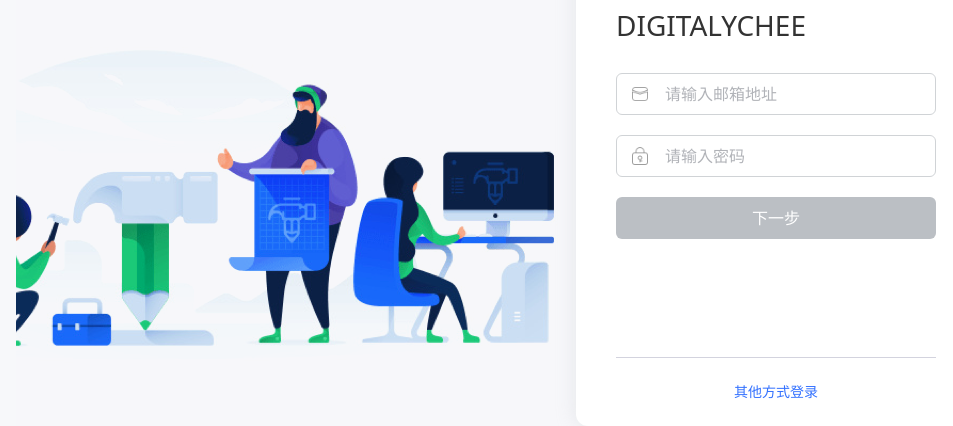
Scenario: login with correct credentials
The width and height of the screenshot is (953, 426).
In the field named "email": (776,94) [616, 73, 936, 115], type "test@gmail.com"
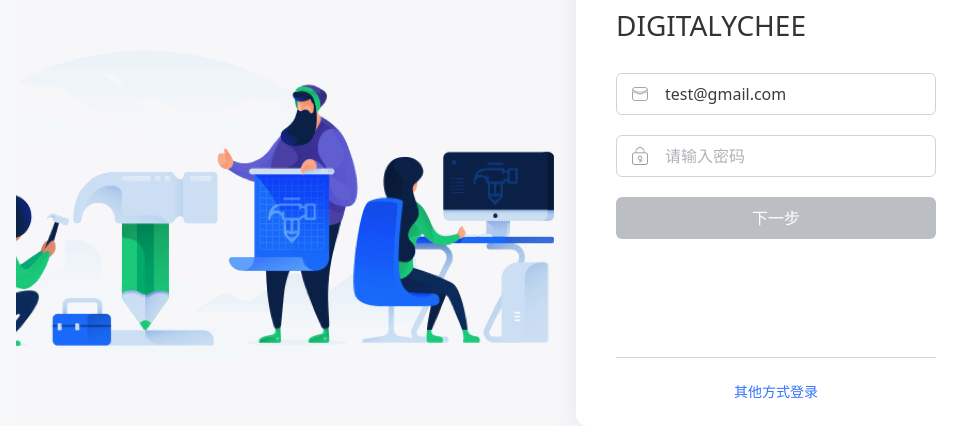
In the password field named "password": (776,156) [616, 135, 936, 177], type "password"
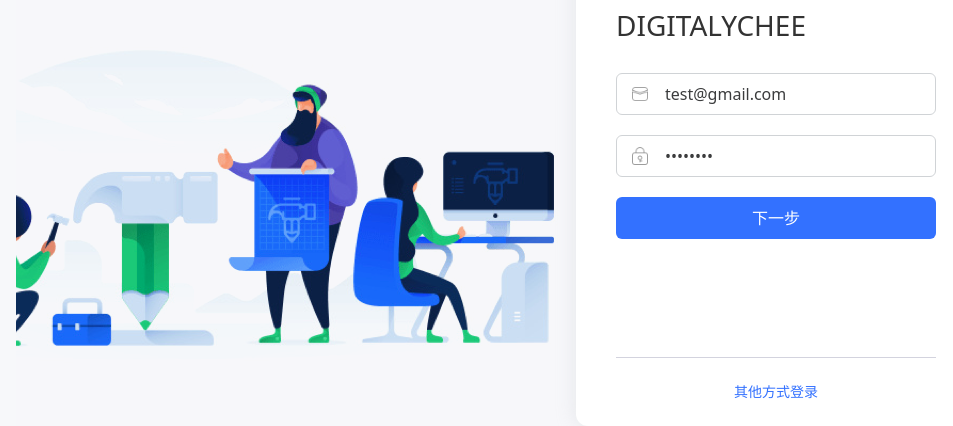
Check: the button "下一步" is enabled
Click the button "下一步": (776,218) [616, 197, 936, 239]
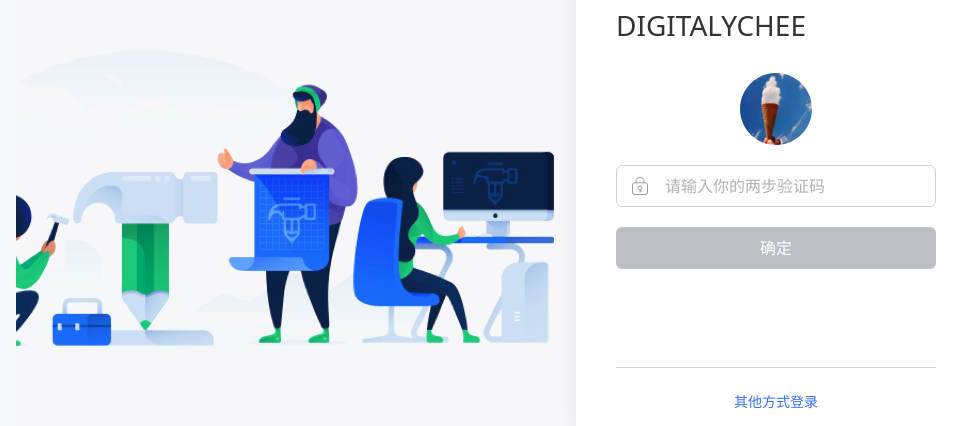
Check: the field named "tfa" is shown, box [616, 165, 936, 207]
